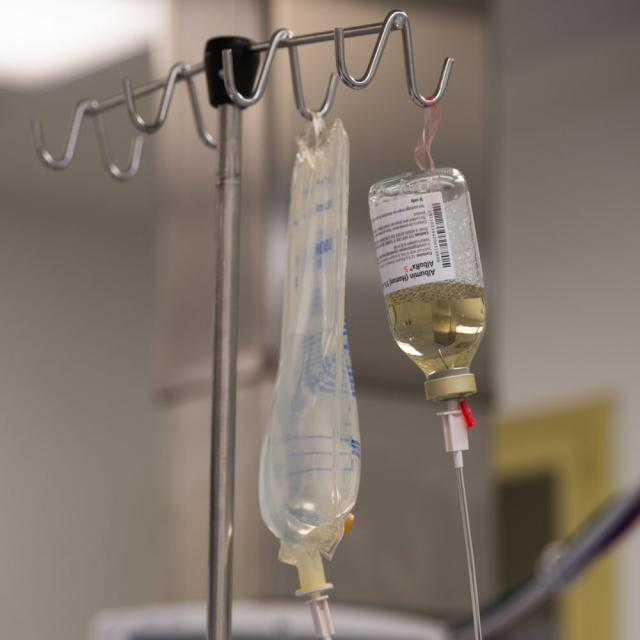B3: (241, 122, 375, 540), (361, 158, 500, 407)
